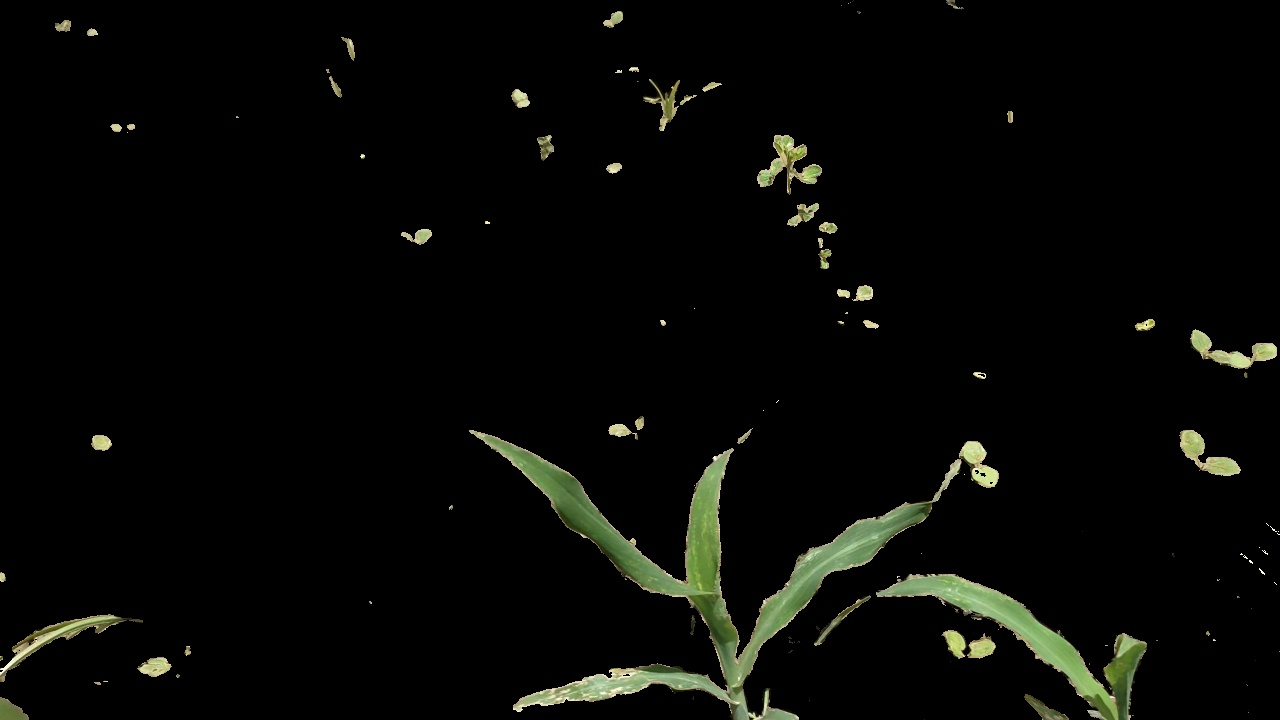crop: (468, 425, 936, 720), (810, 571, 1222, 720)
weed: (609, 57, 725, 134), (746, 127, 825, 204), (1189, 319, 1276, 381), (1182, 432, 1252, 489), (959, 438, 1015, 495), (928, 628, 1013, 665), (826, 279, 890, 310), (608, 408, 653, 449), (387, 226, 441, 252), (789, 202, 821, 226)
